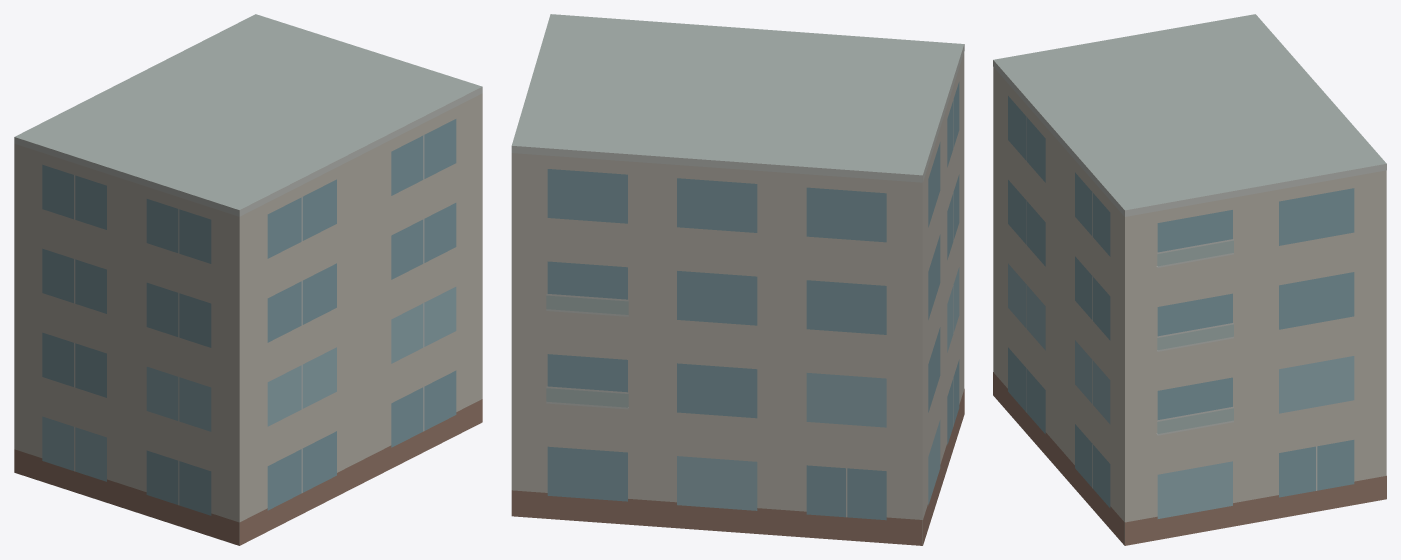
Rendered from survey-upis-33035646.glb.
3 renders of one model, left to right at view 1: azimuth 30°, elevation 25°; view 2: azimuth 150°, elevation 25°; view 3: azimuth 270°, elevation 25°, orthographic. The views are drawn at different scales.
Visible parts, largest first — view 1: survey-upis-33035646.tmp; view 2: survey-upis-33035646.tmp; view 3: survey-upis-33035646.tmp.
Boxes of the visible parts, <box> form: survey-upis-33035646.tmp: <box>14,14,482,545</box>; survey-upis-33035646.tmp: <box>511,14,964,545</box>; survey-upis-33035646.tmp: <box>993,14,1386,545</box>.
Size of the model in its own units: 15.58 by 12.4 by 13.2.
